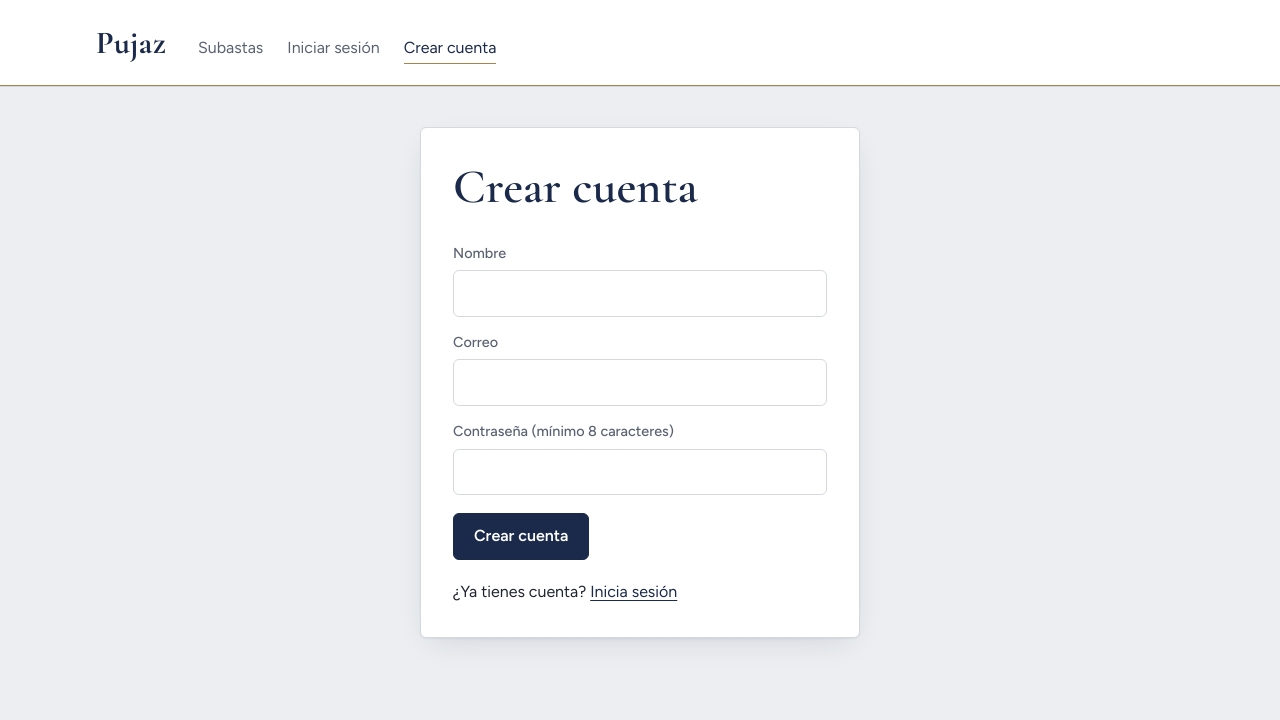
RegistroPage › crea la cuenta, inicia sesión y va a las subastas
Type "Ana Gómez" into the field labelled "Nombre" at [640, 294], box 453,270 -> 827,317
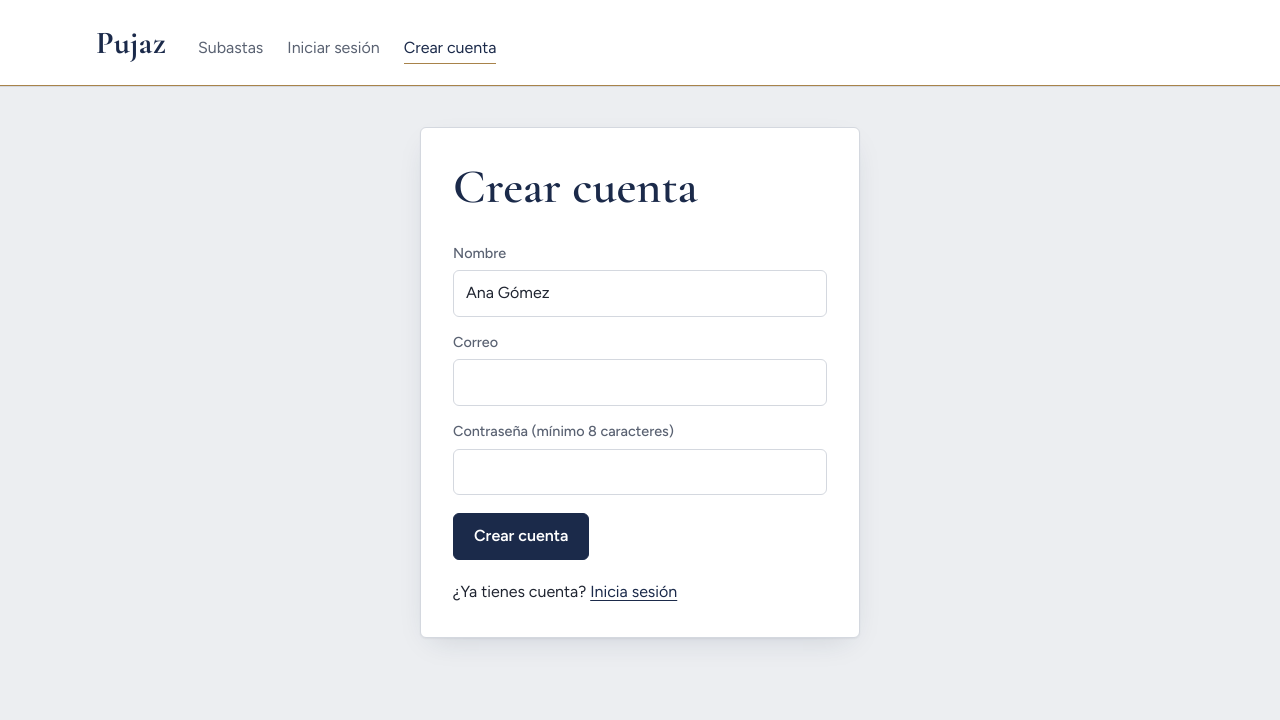
Type "ana@correo.com" into the field labelled "Correo" at [640, 383], box 453,359 -> 827,406
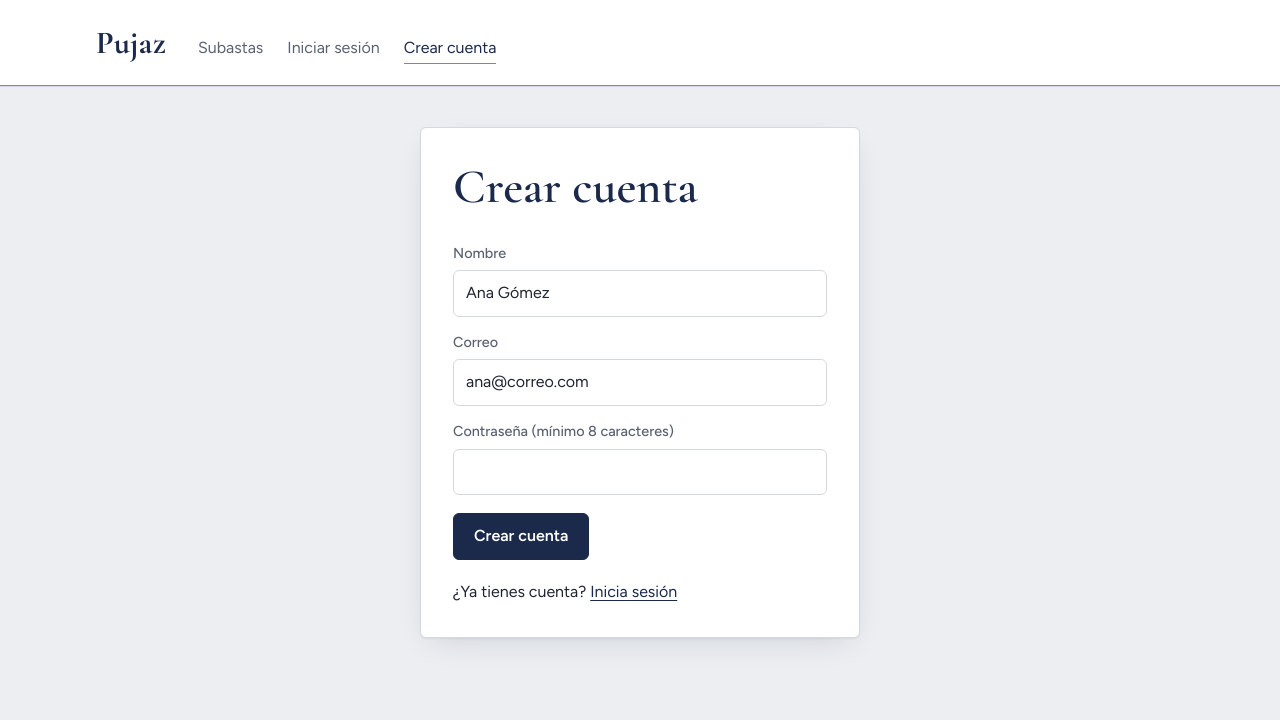
Type "secreto123" into the password field labelled "Contraseña (mínimo 8 caracteres)" at [640, 472], box 453,448 -> 827,495
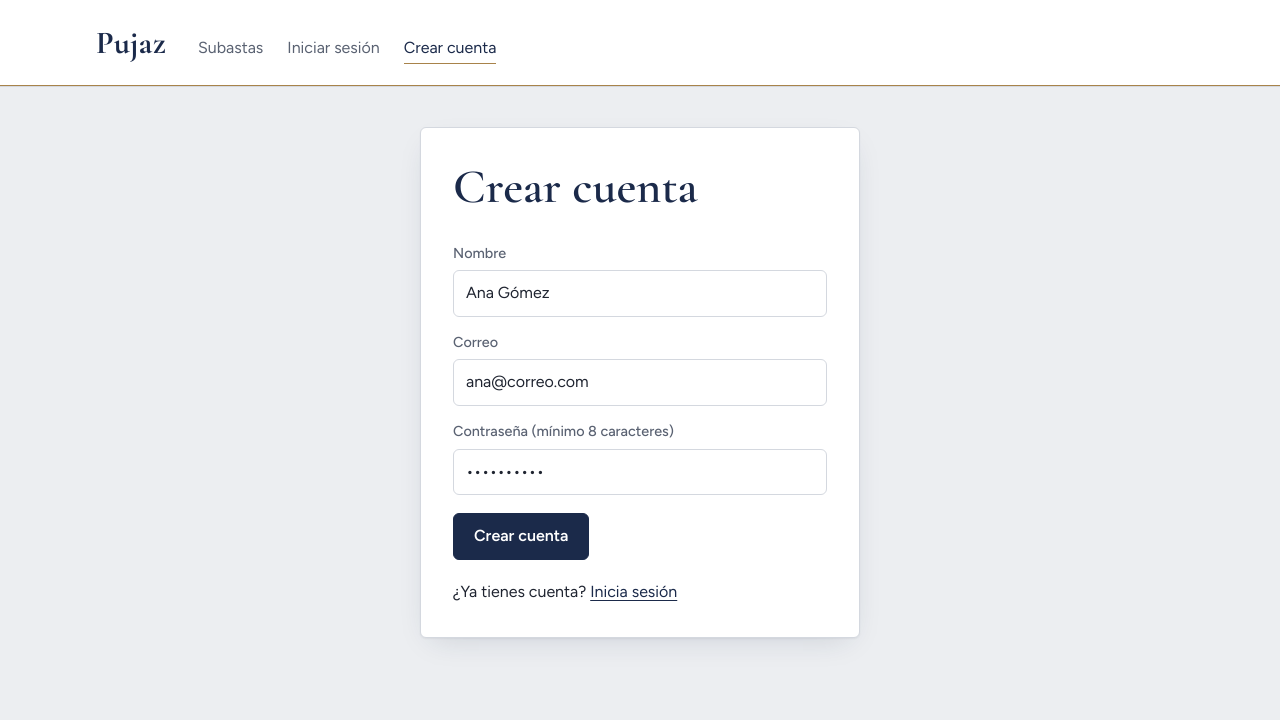
Click the button "Crear cuenta" at [521, 537], box 453,513 -> 589,560
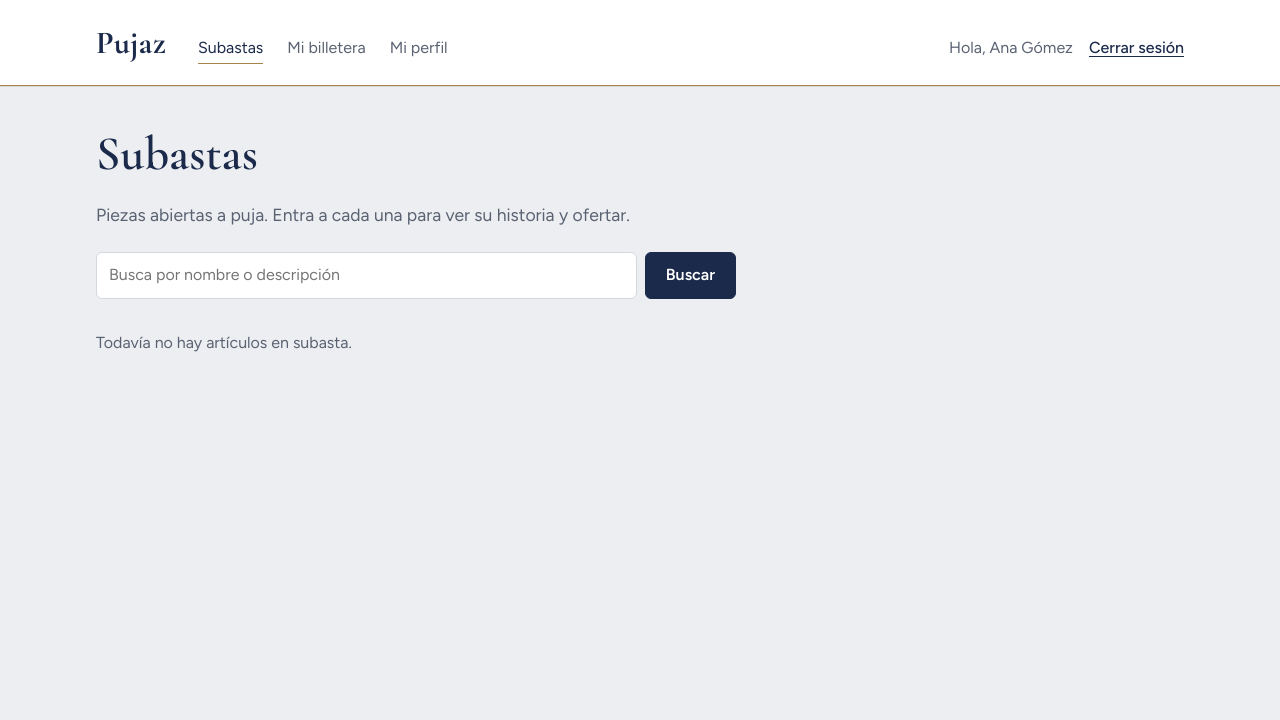
Result: the text "Hola, Ana Gómez" is shown at 949,36 -> 1073,61
